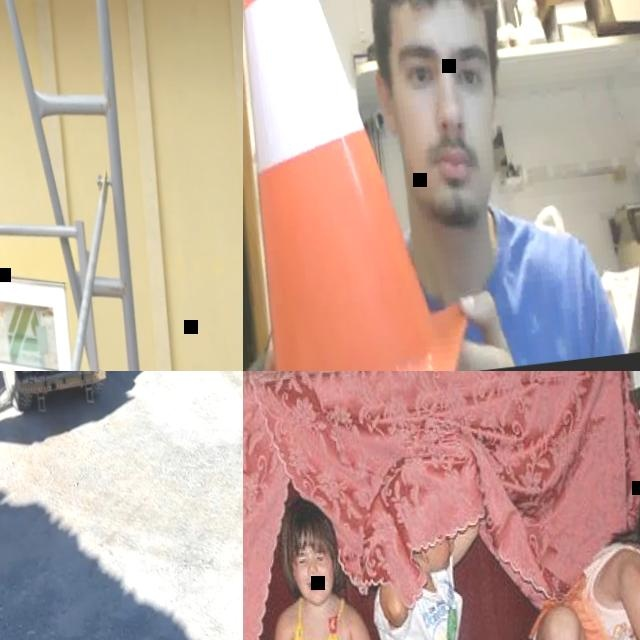NO-Hardhat: (366, 0, 491, 37), (279, 501, 332, 555)
NO-Mask: (409, 127, 500, 228), (297, 572, 332, 606), (429, 541, 455, 574)
NO-Safety Vest: (407, 219, 585, 371), (563, 534, 640, 640), (376, 568, 466, 640), (282, 596, 361, 640)
Person: (243, 0, 626, 371), (450, 465, 640, 640), (243, 492, 416, 640), (361, 510, 514, 640)
Safety Cone: (243, 0, 478, 371)
